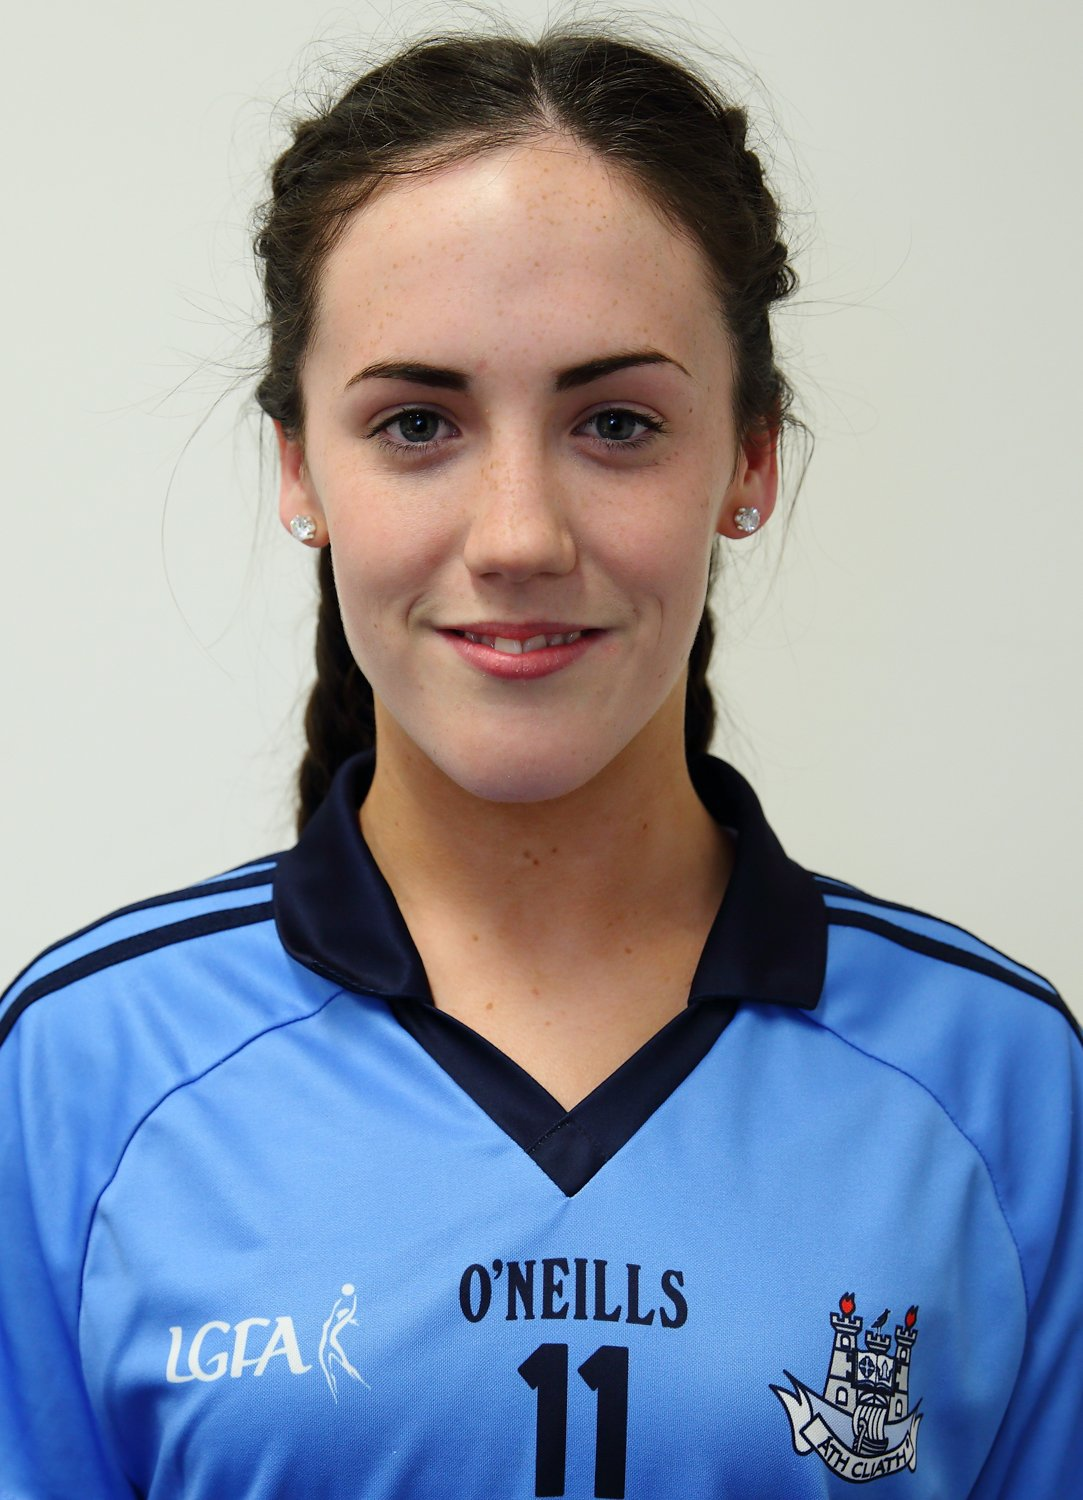player: (14, 16, 1033, 1475)
